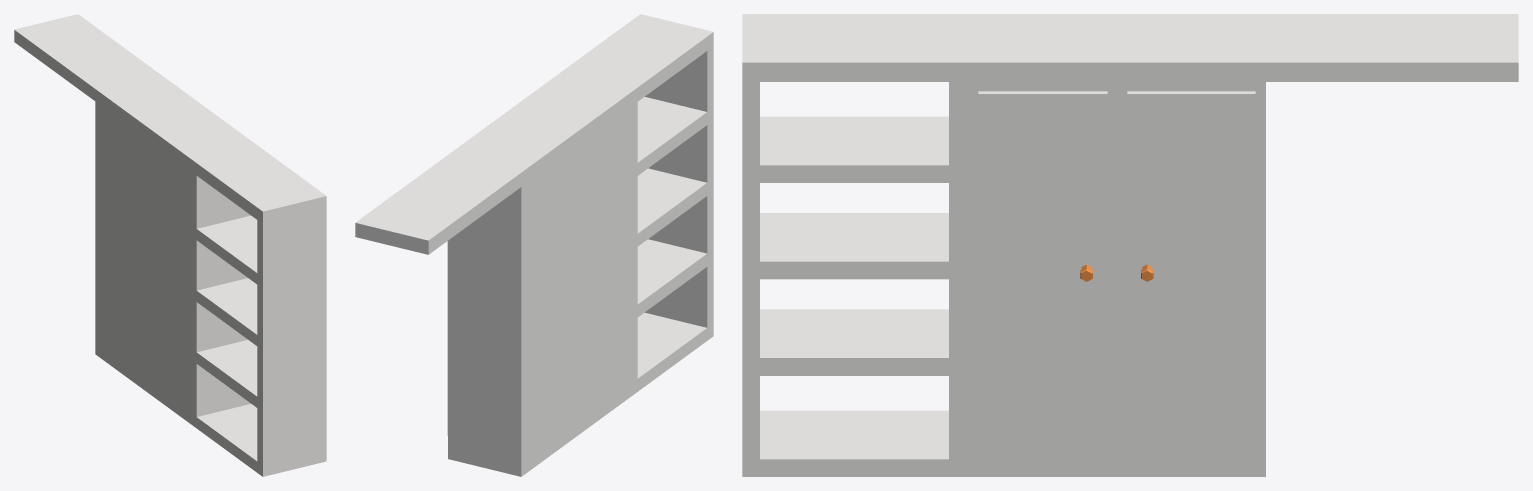
File: Cabinet_2.fbx
The picture shows the model from 3 angles, left to right: view 1: azimuth 30°, elevation 25°; view 2: azimuth 150°, elevation 25°; view 3: azimuth 270°, elevation 25°; orthographic projection. The views are drawn at different scales.
Parts seen in each view (by area): view 1: Cabinet_2; view 2: Cabinet_2; view 3: Cabinet_2.
Boxes of the visible parts, box(x1,y1,x2,y2) form: Cabinet_2: box(14, 14, 326, 476); Cabinet_2: box(355, 14, 713, 476); Cabinet_2: box(742, 14, 1518, 476).
Size of the model in its own units: 86.88 by 489 by 288.
